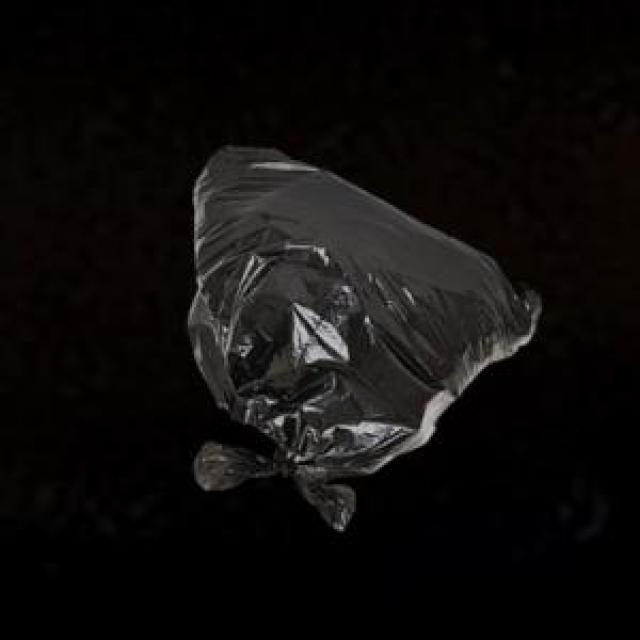miscellaneous trash: (184, 143, 538, 527)
